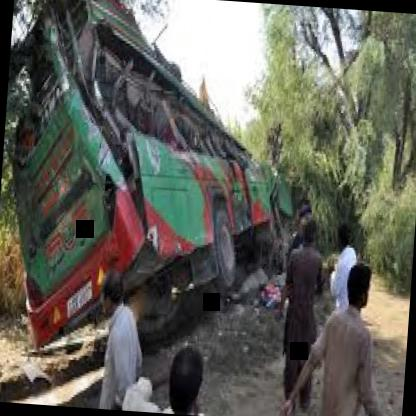accident: (0, 0, 316, 385)
